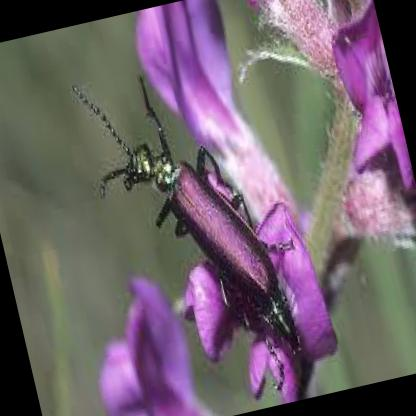blister beetle: (75, 82, 306, 355)
